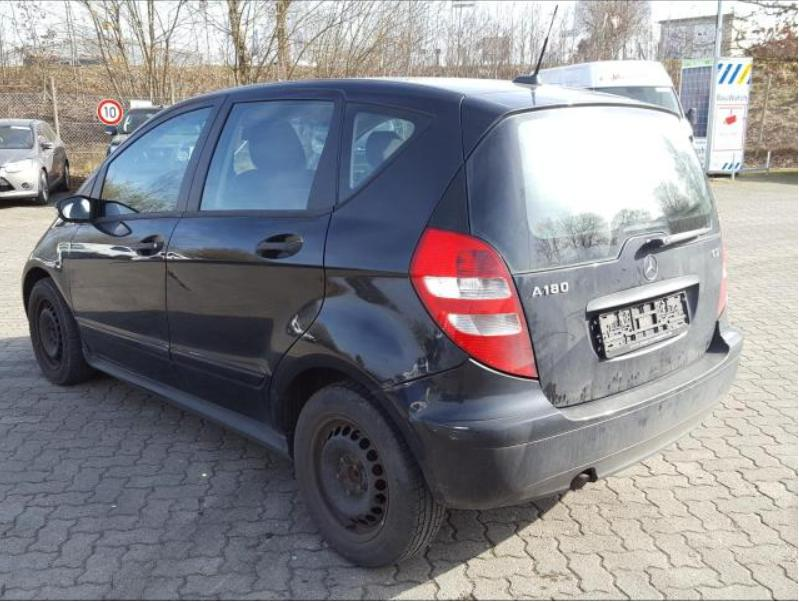Back-bumper: (377, 309, 744, 510)
Back-door: (166, 92, 343, 426)
Back-wheel: (291, 381, 445, 567)
Back-window: (199, 99, 333, 211), (343, 100, 427, 197)
Back-windshield: (516, 107, 710, 237)
Fender: (21, 227, 80, 316)
Front-door: (58, 97, 225, 391)
Front-wheel: (27, 277, 90, 387)
Front-window: (102, 108, 211, 214)
License-plate: (585, 285, 698, 356)
Mirror: (61, 198, 112, 225)
Quarter-panel: (269, 207, 471, 430)
Rocker-panel: (81, 345, 289, 459)
Roof: (194, 76, 633, 102)
Tail-light: (407, 229, 543, 383), (722, 248, 733, 300)
Trunk: (460, 93, 724, 408)
